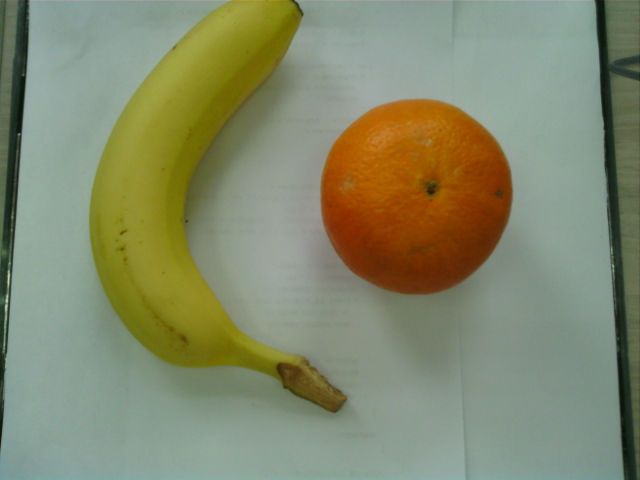normal_banana: (90, 1, 304, 383)
normal_orange: (319, 99, 514, 298)
